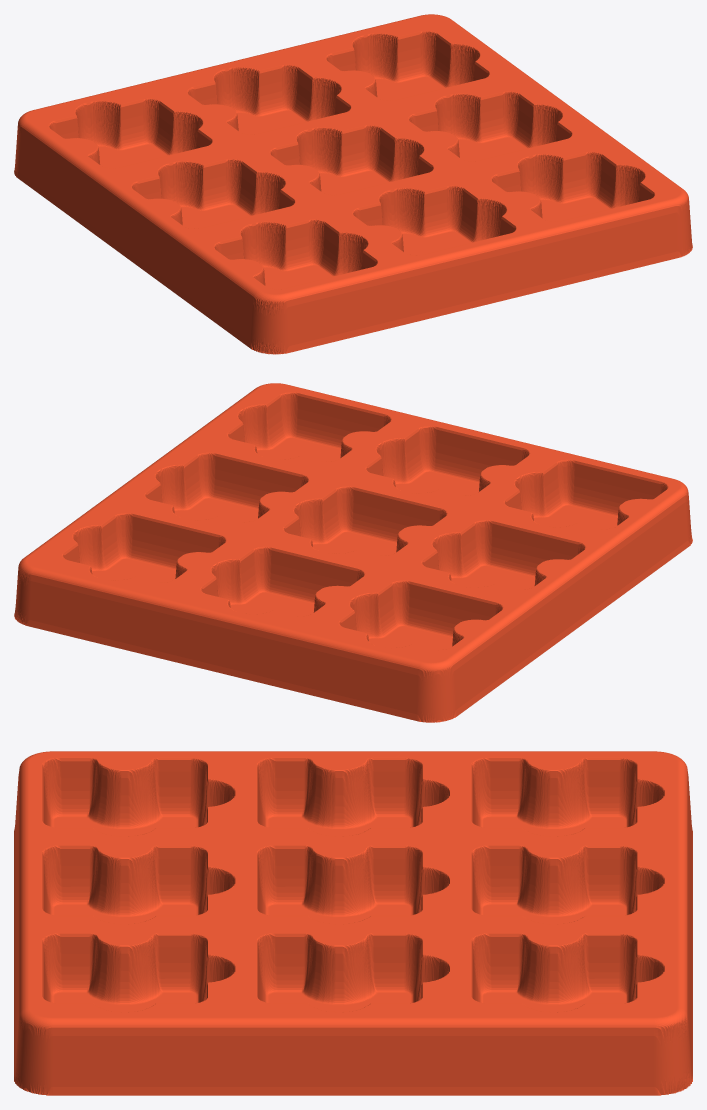
File: mold.glb
3 views of the same model, one above another, from view 1: azimuth 30°, elevation 25°; view 2: azimuth 150°, elevation 25°; view 3: azimuth 270°, elevation 25° (orthographic). The views are drawn at different scales.
Visible parts, largest first — view 1: geometry_0; view 2: geometry_0; view 3: geometry_0.
Part boxes in pixels (x1,y1,x2,y2): geometry_0: (14,14,692,354); geometry_0: (14,383,692,722); geometry_0: (14,751,692,1095).
Bounding box in the file's own units: 0.1547 × 0.0185 × 0.1595.
